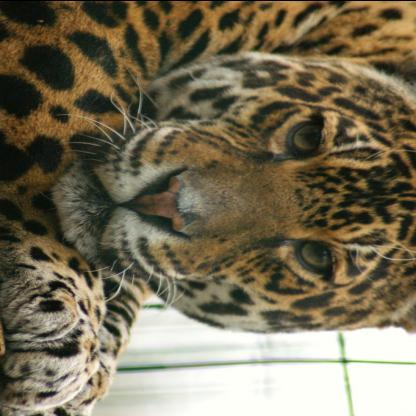leopard: (76, 59, 414, 311)
